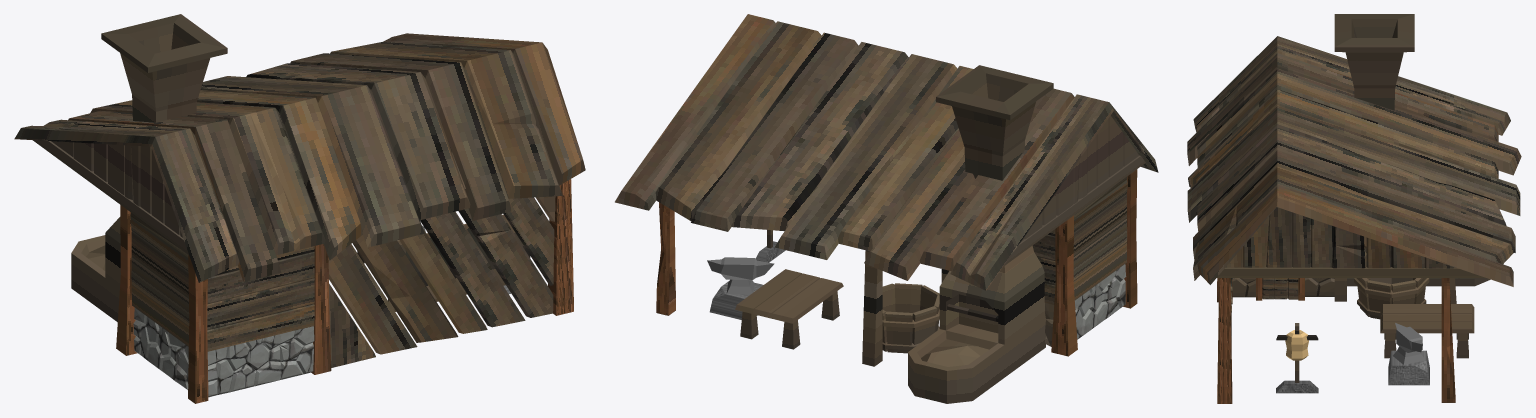
The model's file is torget_objektfbx.fbx.
3 views of the same model, side by side, from view 1: azimuth 30°, elevation 25°; view 2: azimuth 150°, elevation 25°; view 3: azimuth 270°, elevation 25° (orthographic). The views are drawn at different scales.
Parts seen in each view (by area): view 1: Smithy; view 2: Smithy; view 3: Smithy.
Part boxes in pixels (x1,y1,x2,y2): Smithy: (14, 14, 585, 403); Smithy: (615, 14, 1158, 403); Smithy: (1187, 14, 1521, 403).
Bounding box in the file's own units: 965 × 661 × 822.
6 materials, 4 textured.
